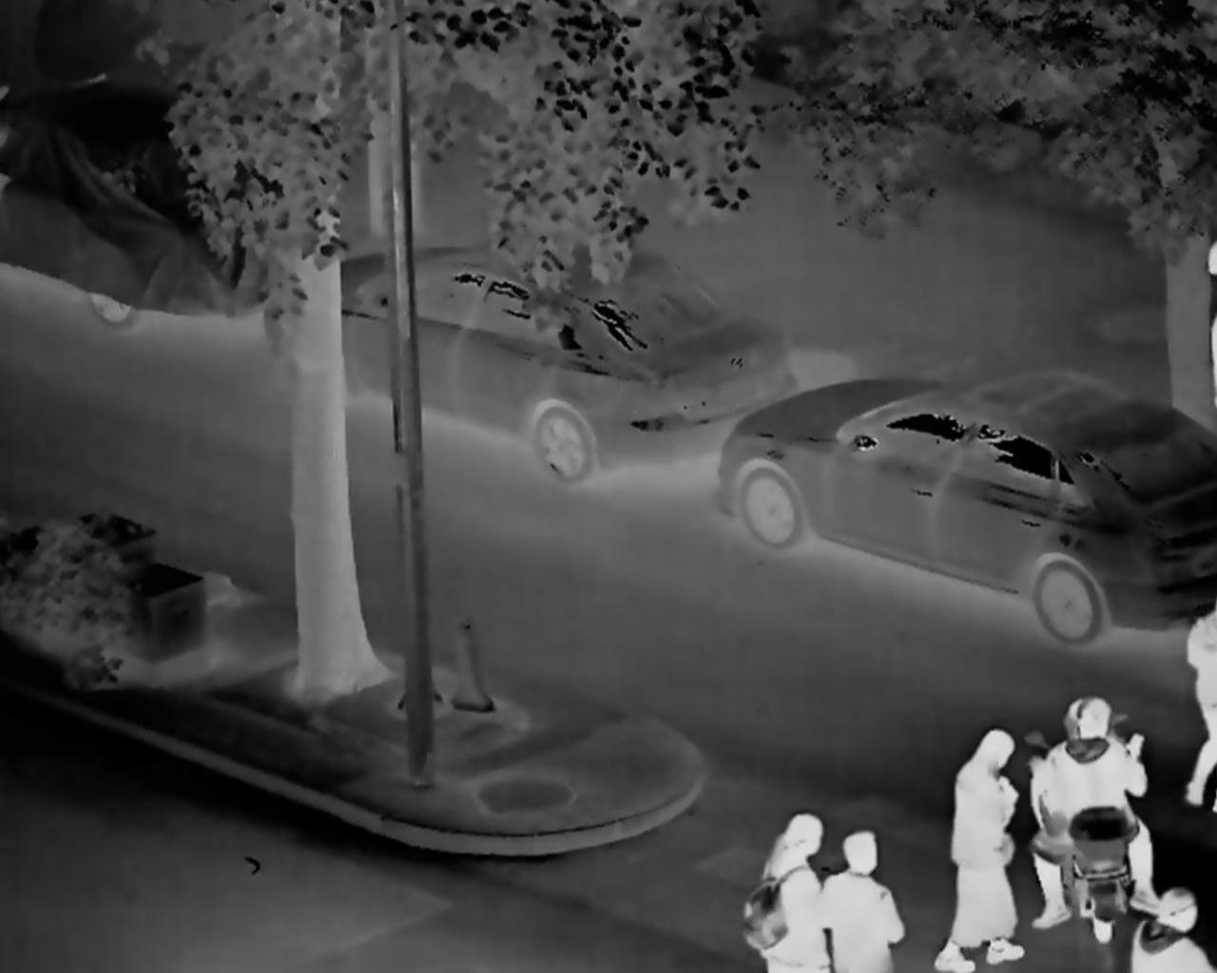person: (1036, 690, 1155, 910), (932, 732, 1024, 973), (735, 786, 836, 973), (823, 824, 905, 973), (1179, 591, 1217, 818), (1127, 882, 1197, 973)
